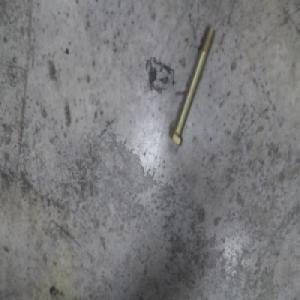Bolt: (164, 23, 211, 149)
